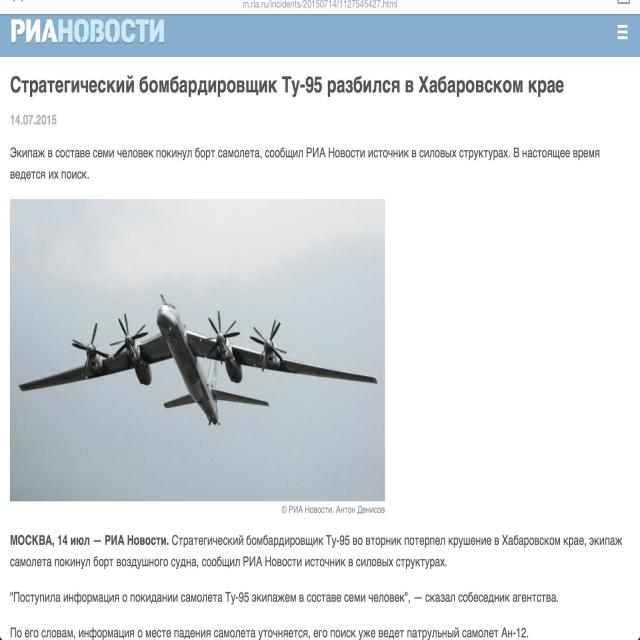MIL_Plane: (19, 294, 378, 426)
